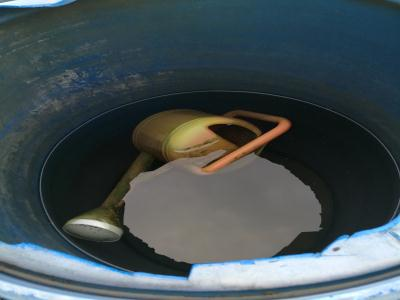bowl: (134, 106, 265, 172)
